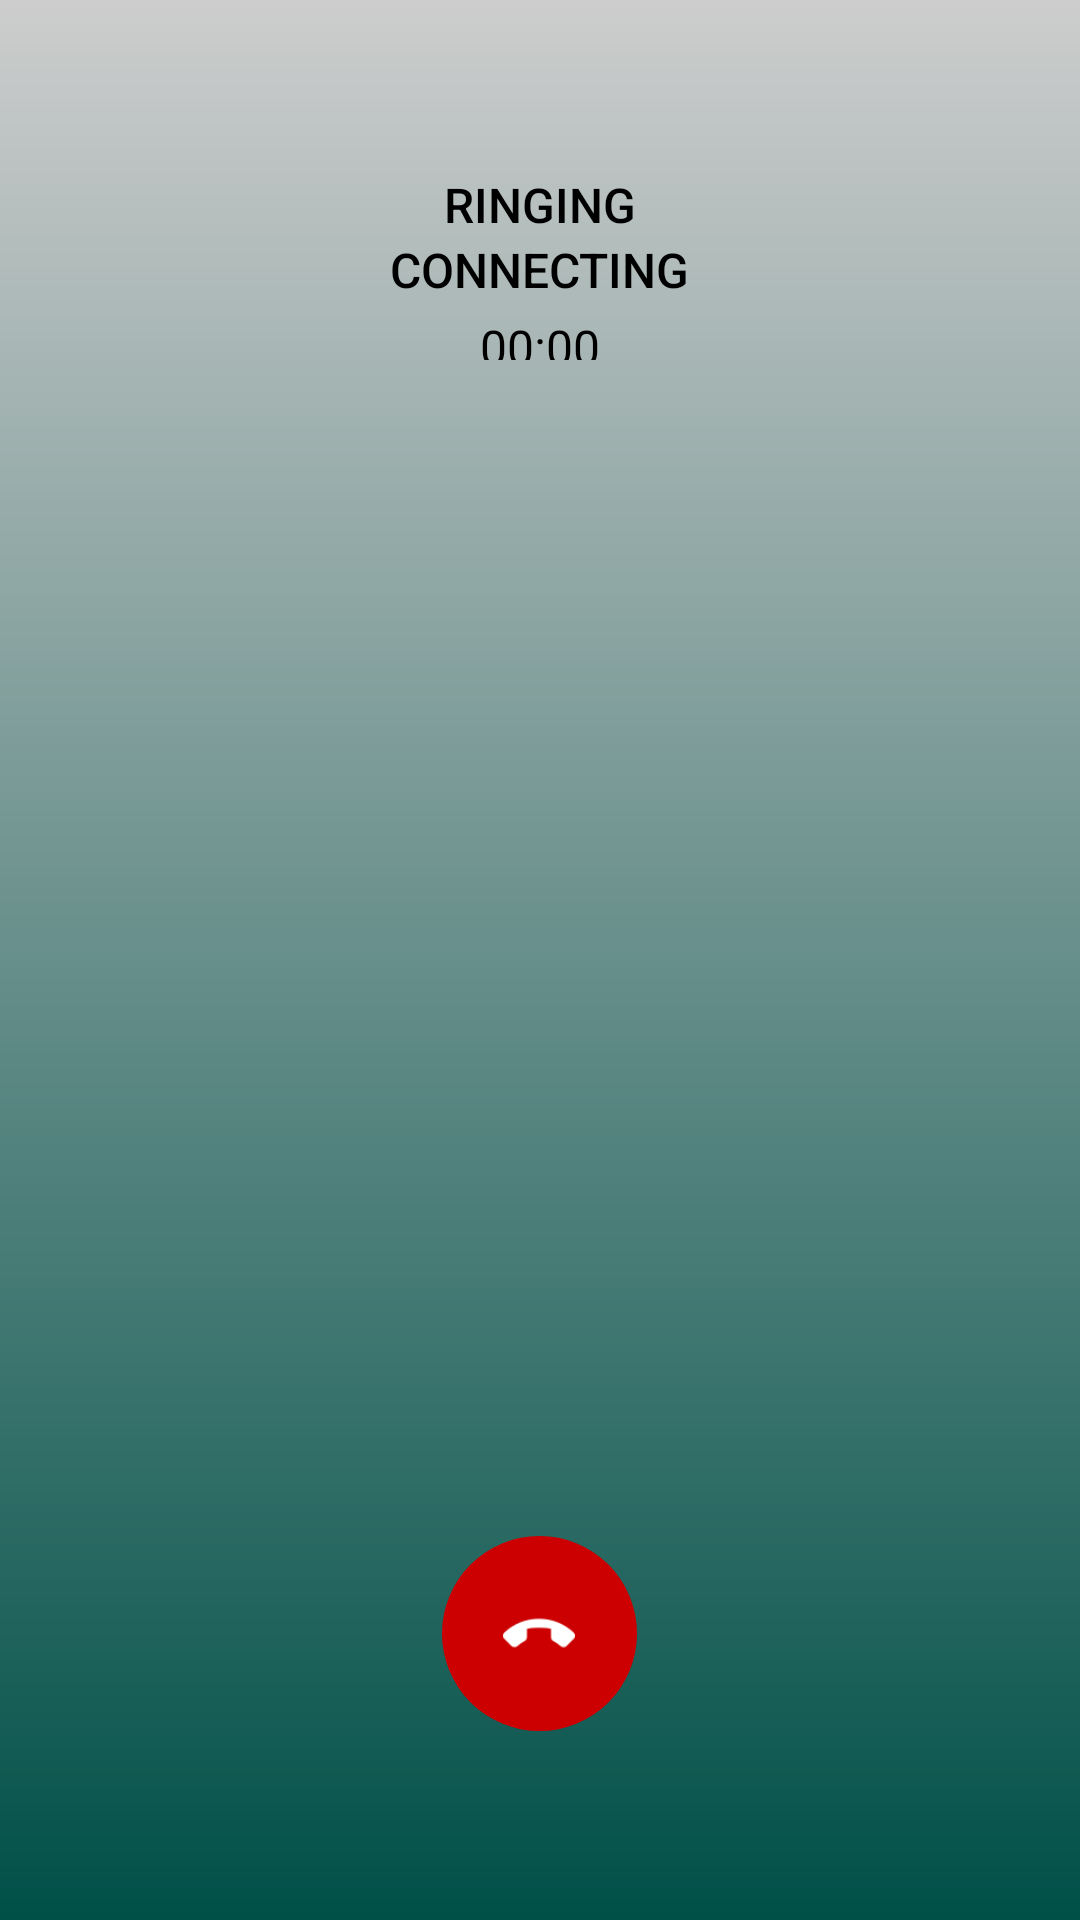

Screen size 1080x1920. Icon name, then its box in pixels as (x1, y1, x2, y2):
end call: (503, 1618, 575, 1648)
